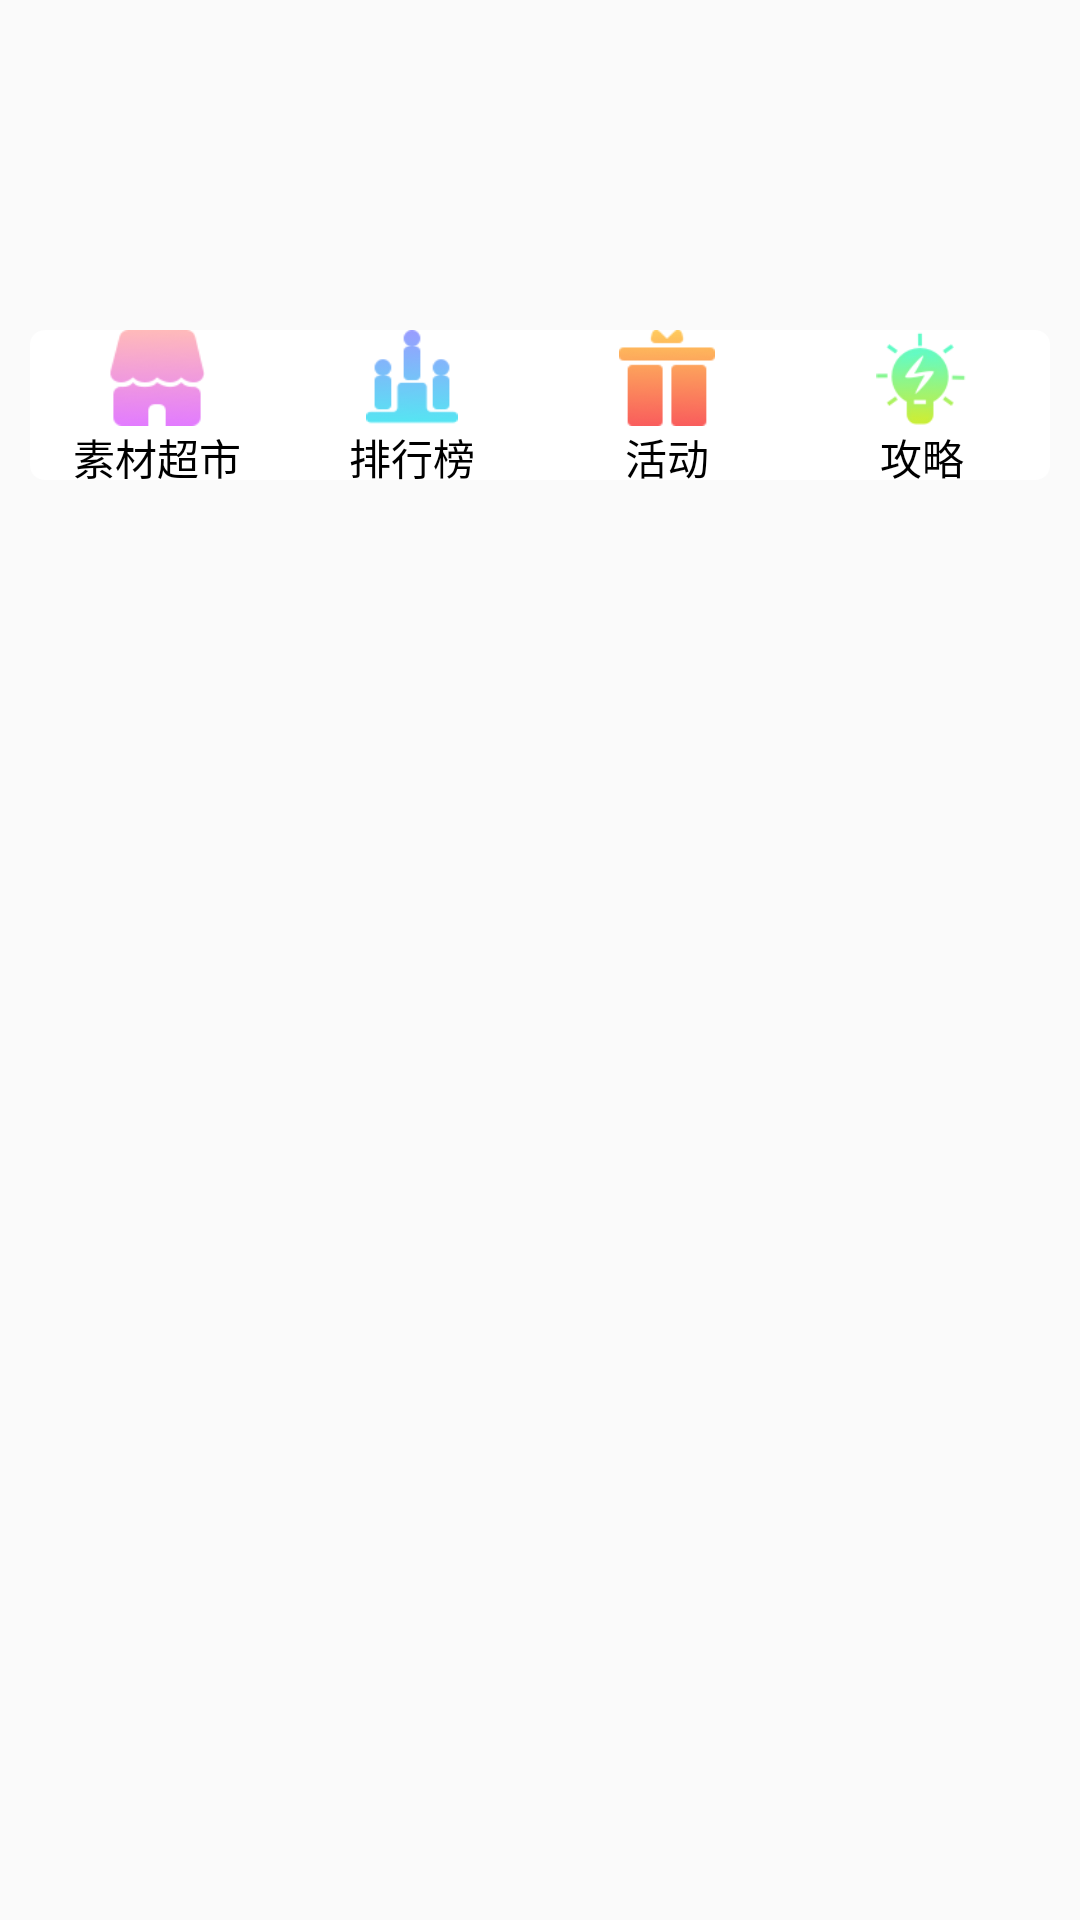

Icons on this 1080×1920 Android screen, each with its box as bbox(x1, y1, x2, y2):
box: bbox(619, 330, 715, 426)
